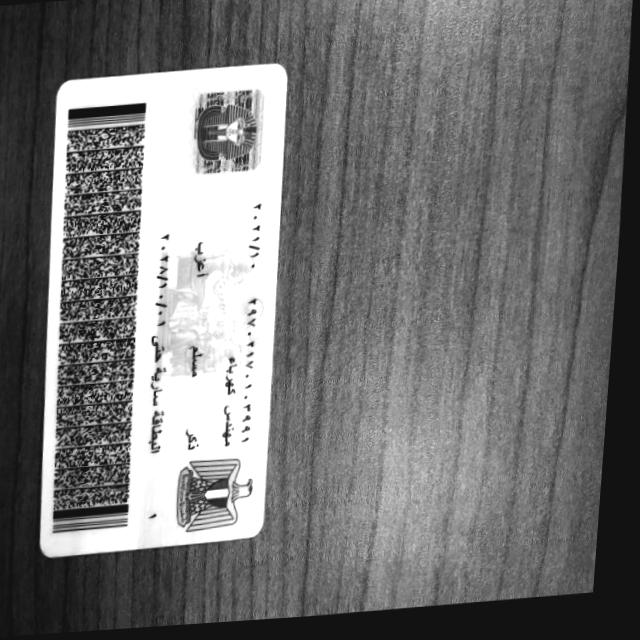back: (39, 64, 286, 556)
